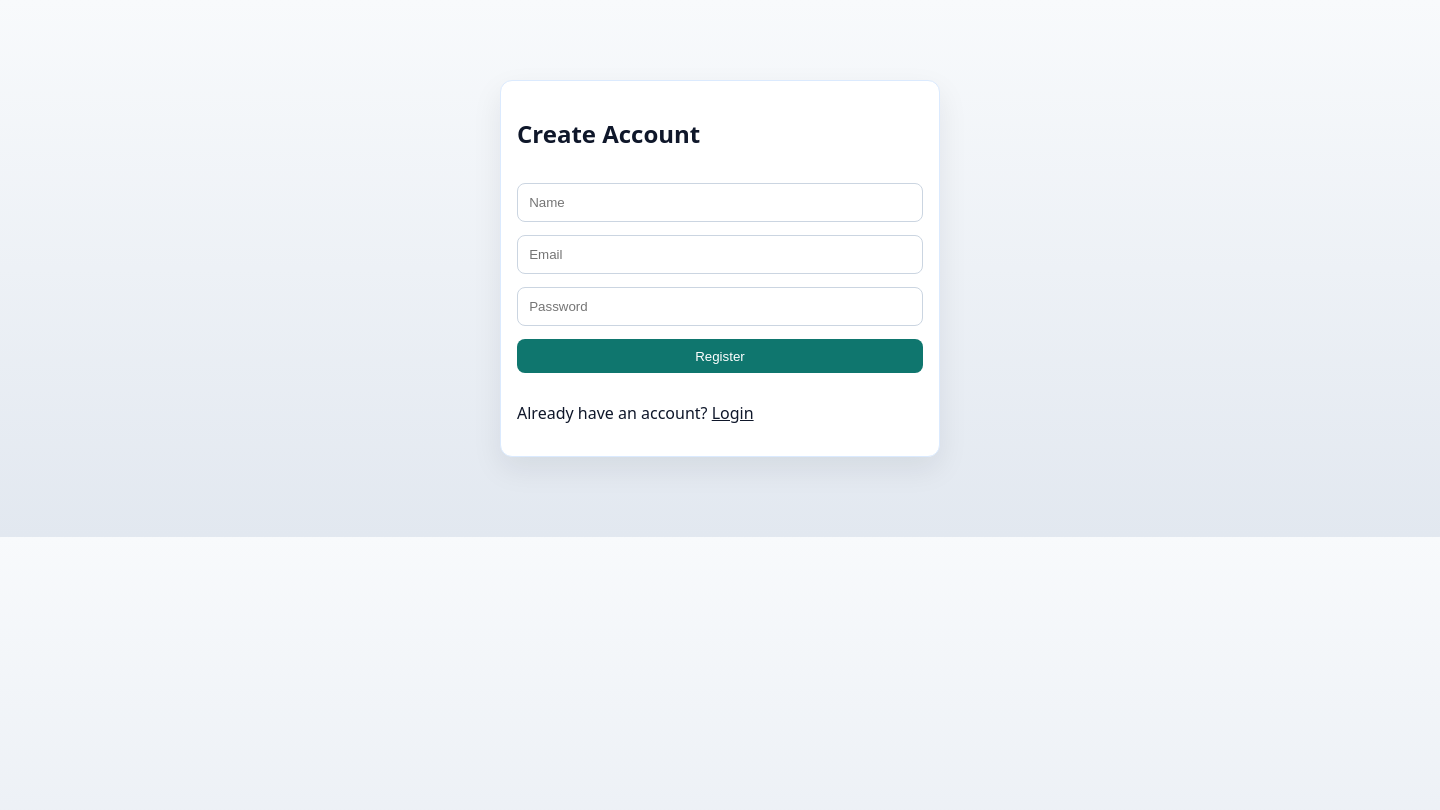
Test: Register page › successful registration
The image size is (1440, 810).
Type "Ravi" into the field with placeholder "Name" at point(720, 202), box [517,183,923,222]
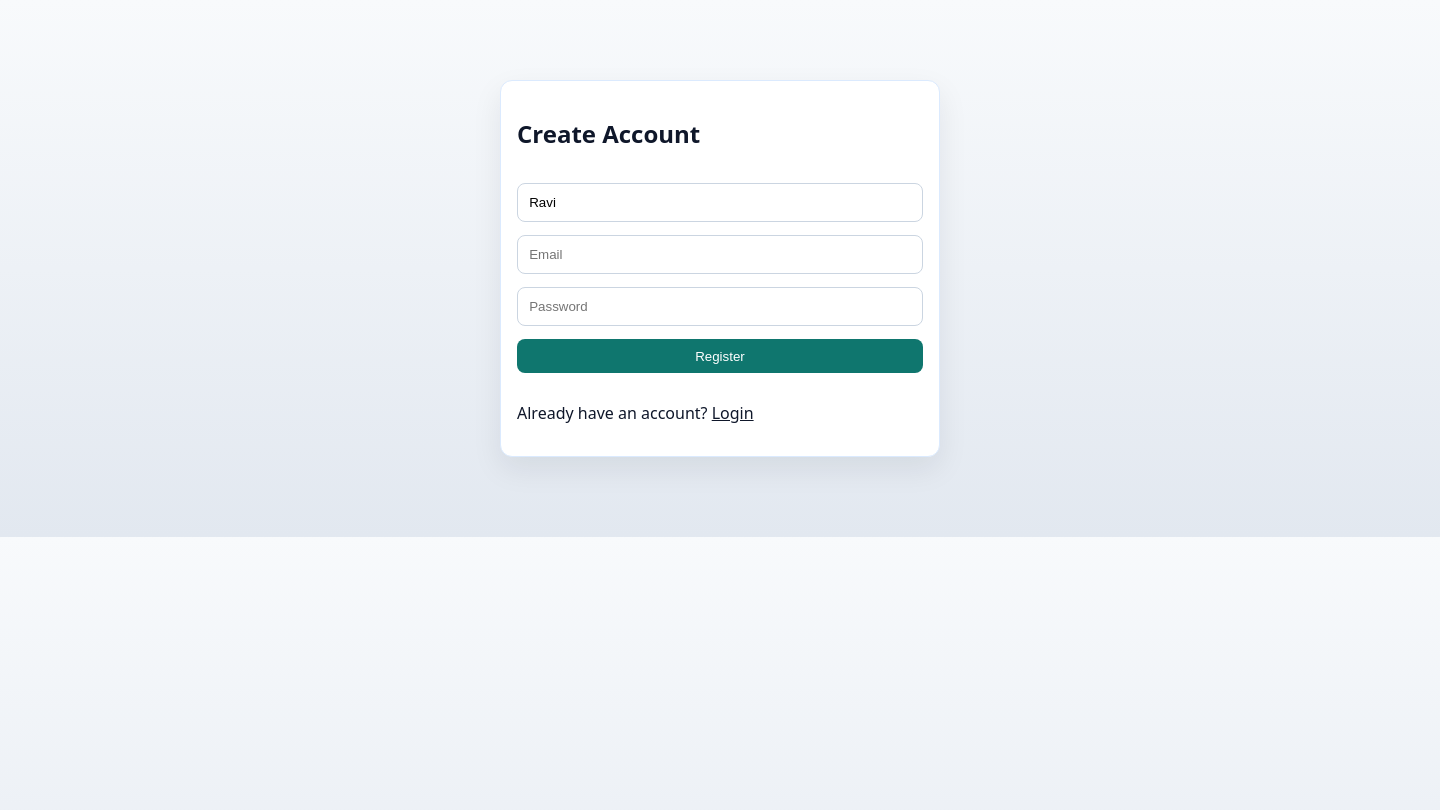
Type "ravi@mail.com" into the field with placeholder "Email" at point(720, 254), box [517,235,923,274]
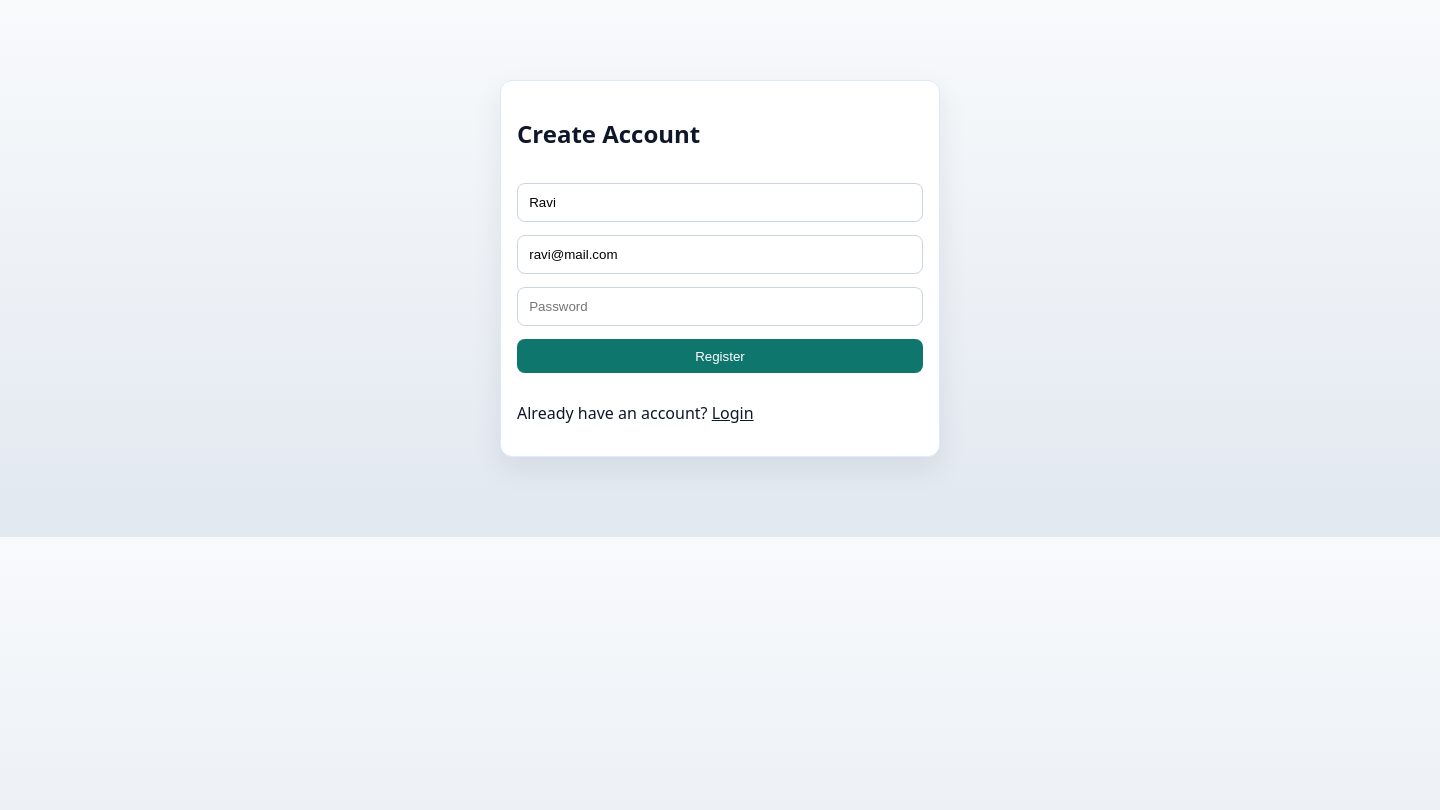
Type "1234" into the password field with placeholder "Password" at point(720, 307), box [517,287,923,326]
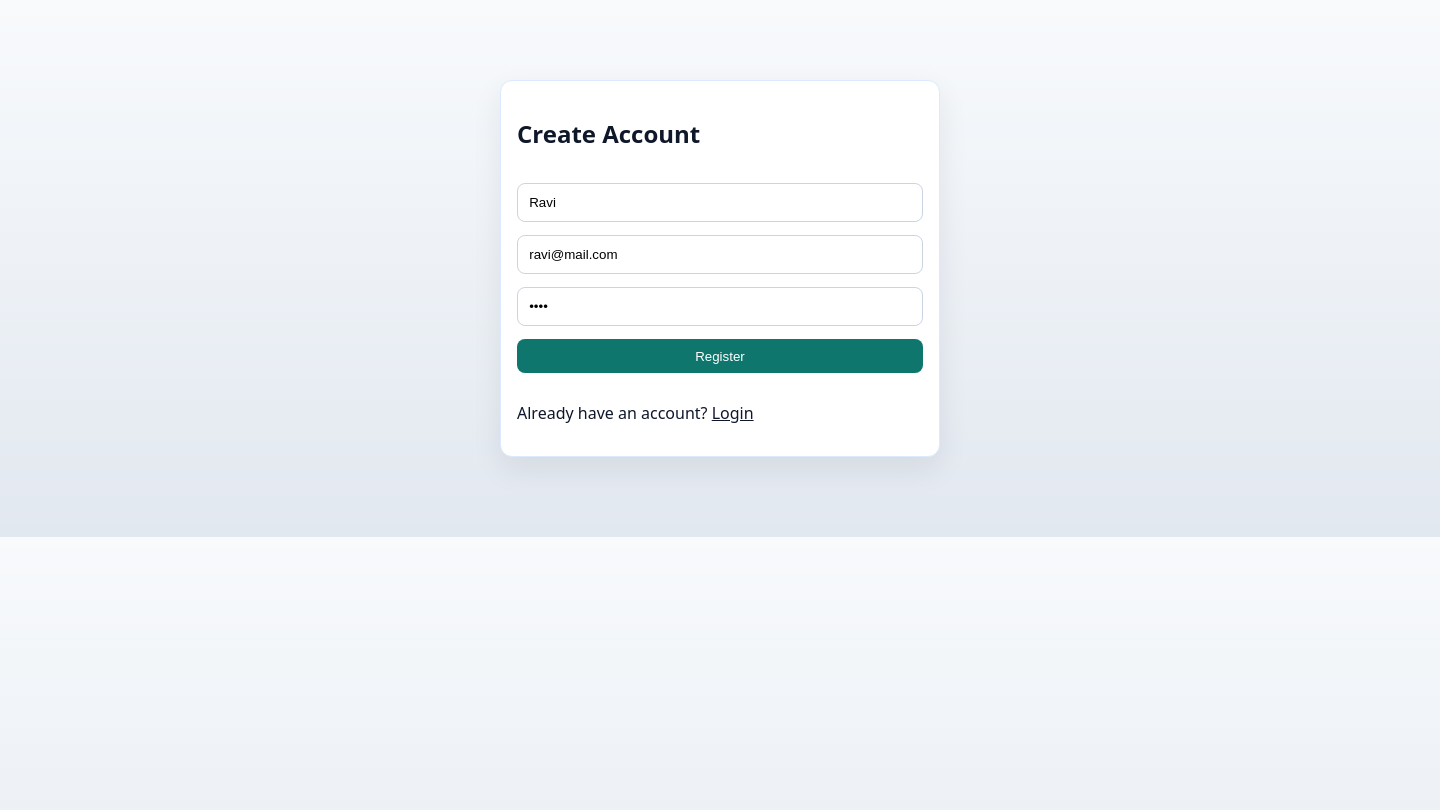
Click the button "Register" at point(720, 356), box [517,339,923,373]
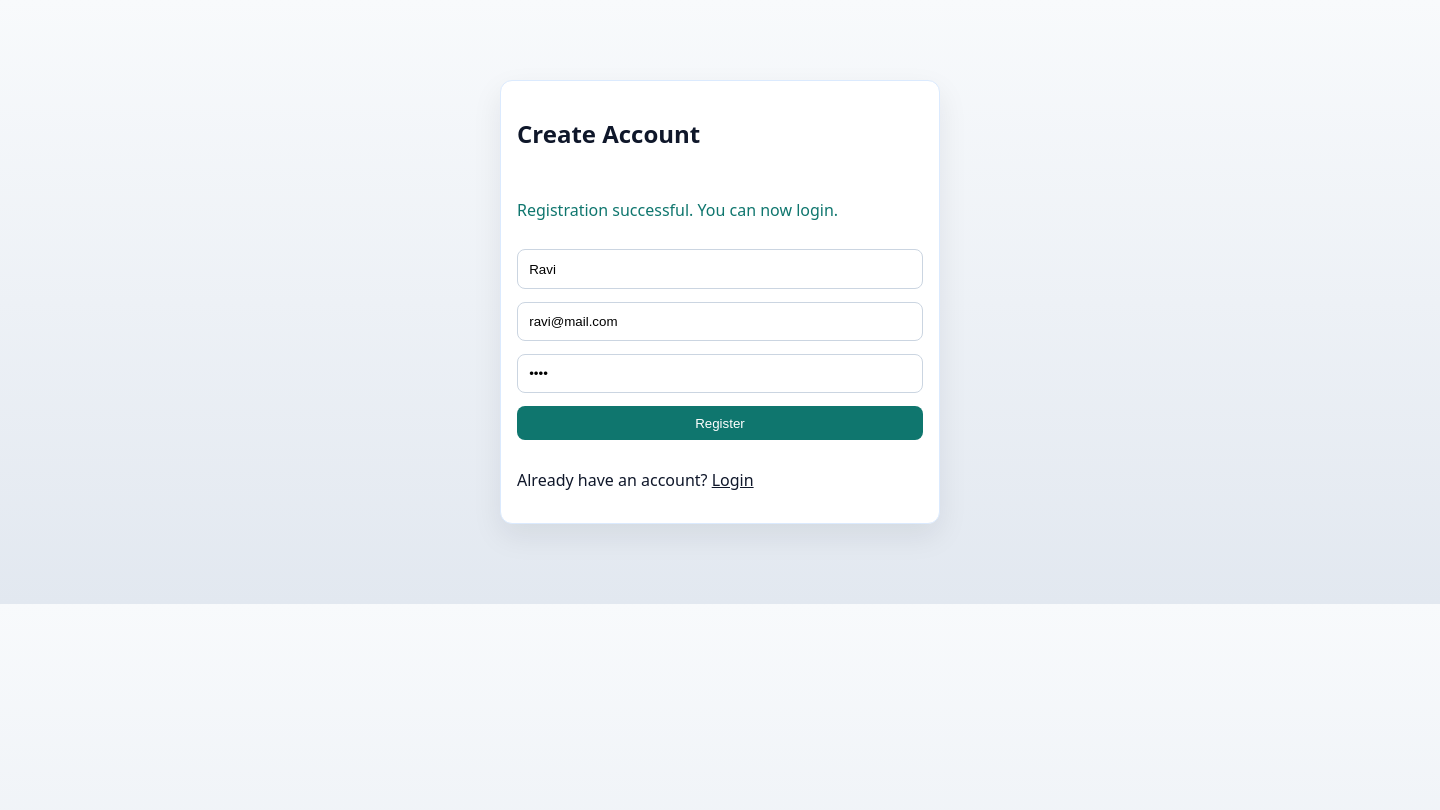
Result: the text "Registration successful. You can now login." is shown at [517,199,838,221]
